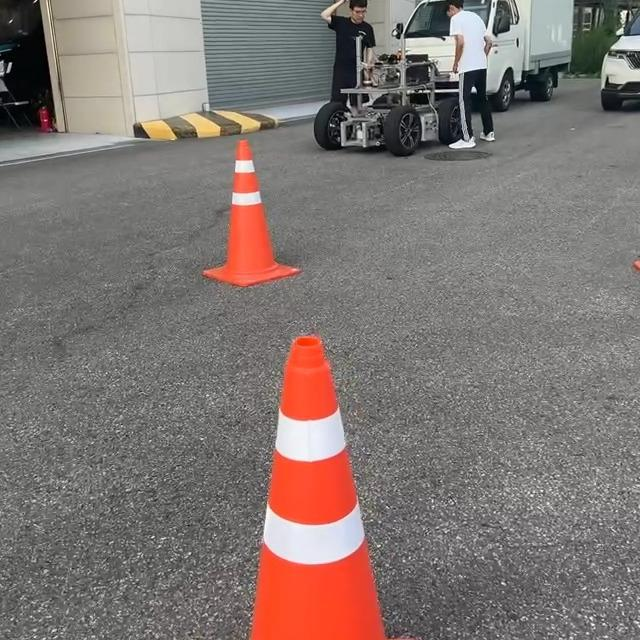fallen_object: (210, 307, 486, 640), (152, 107, 341, 352)
